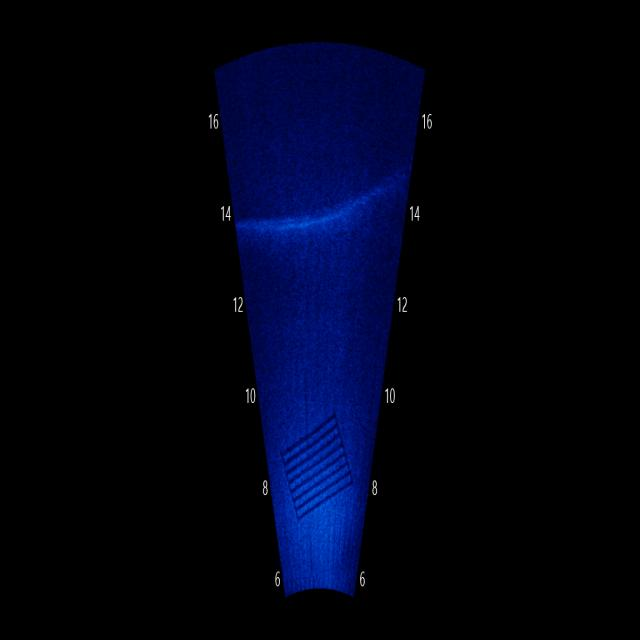square: (275, 403, 358, 532)
